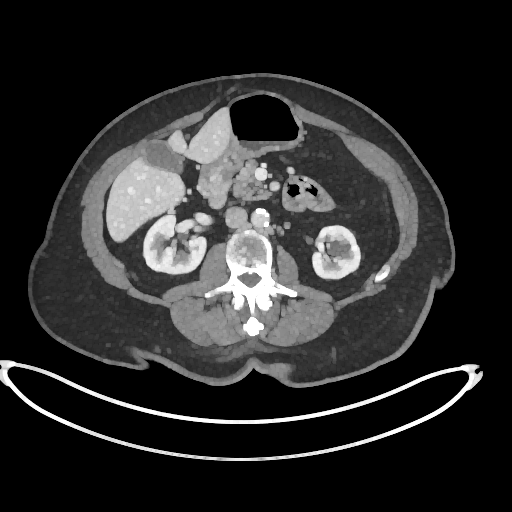Lesion: (321, 234, 354, 259)
